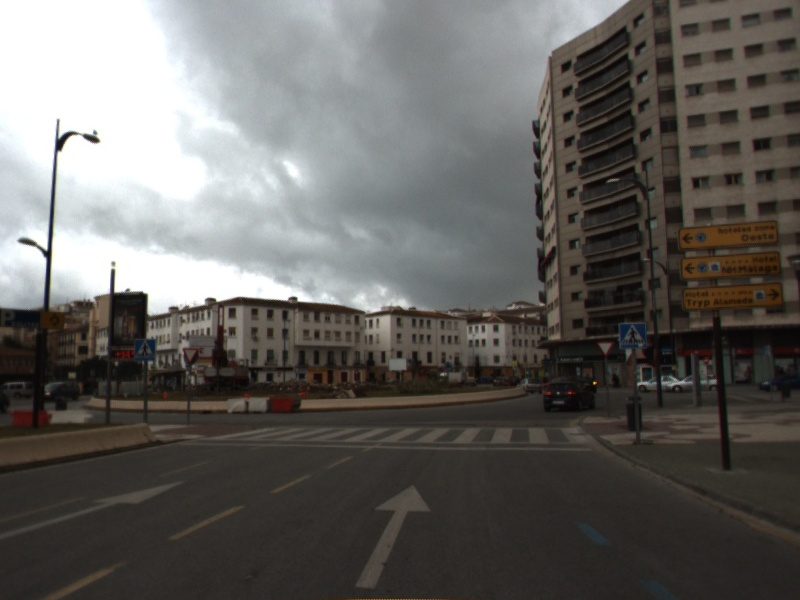STRAIGHT: (1, 475, 191, 551), (351, 480, 435, 592)
